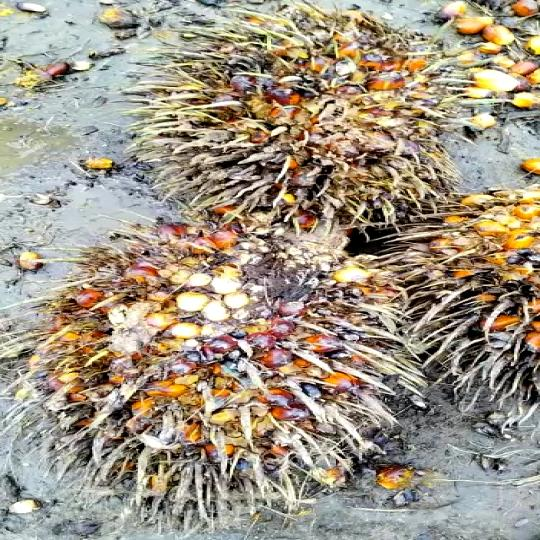terlalu masak: (23, 229, 449, 527), (125, 10, 489, 232)
